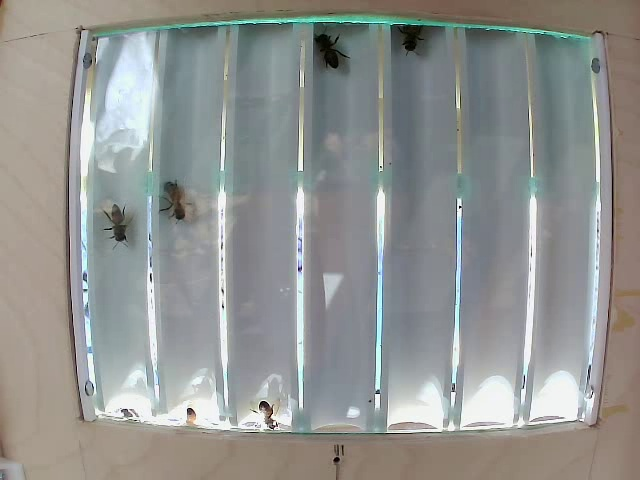bee: (156, 174, 208, 231), (94, 199, 145, 248), (304, 31, 351, 69), (398, 19, 428, 61)
